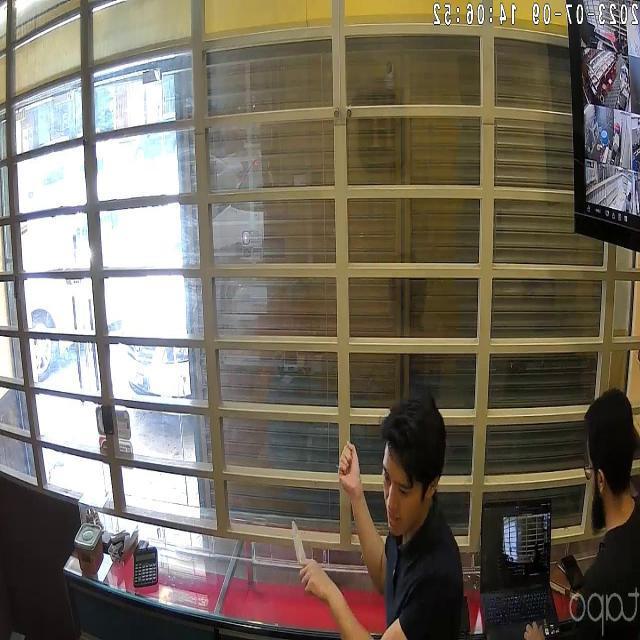Knife: (282, 512, 320, 584)
